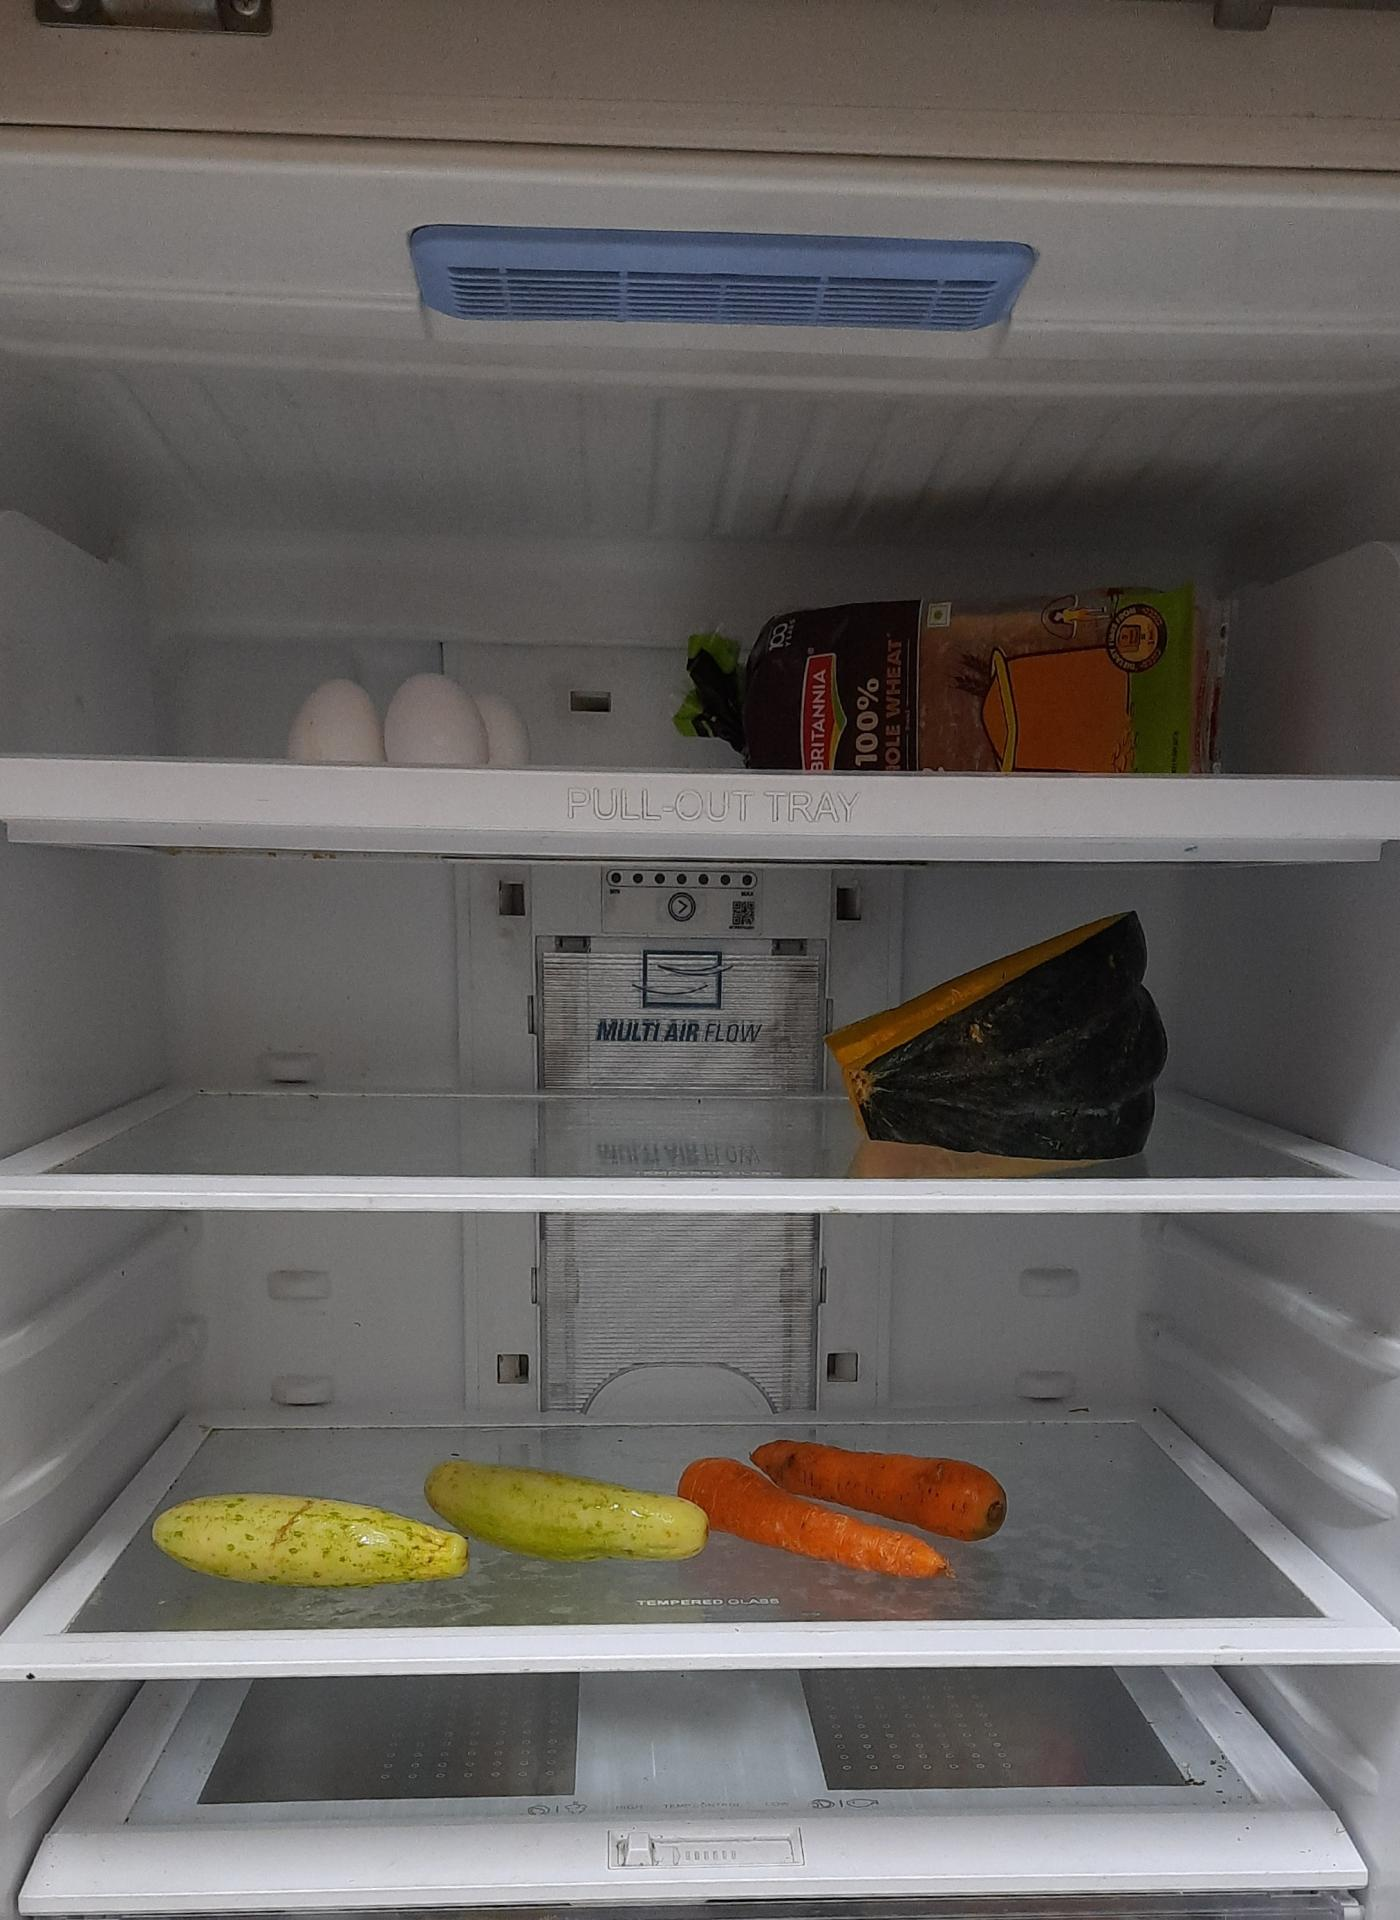bread: (687, 577, 1223, 775)
carrots: (677, 1437, 1011, 1576)
cucumber: (146, 1497, 468, 1595), (423, 1461, 719, 1565)
egg: (276, 663, 537, 775)
pumpkin: (826, 911, 1169, 1160)
